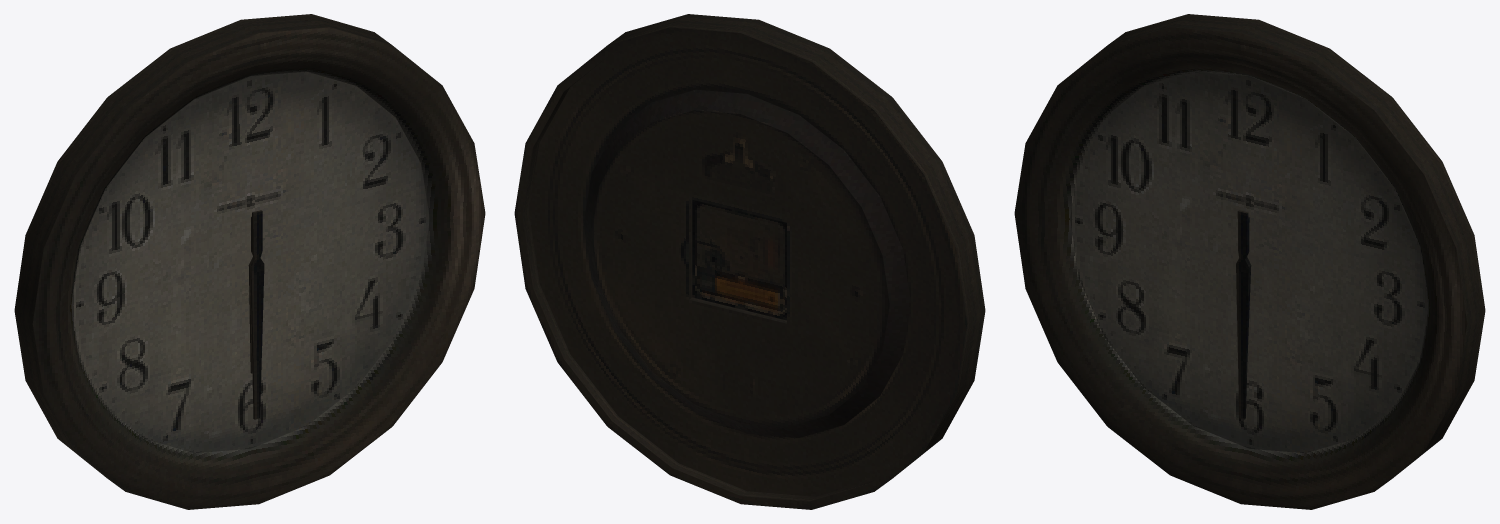
Rendered from clock_1.glb.
3 views of the same model, side by side, from view 1: azimuth 30°, elevation 25°; view 2: azimuth 150°, elevation 25°; view 3: azimuth 330°, elevation 25° (orthographic).
Visible parts, largest first — view 1: clock_1, clock_1_arm_minutes; view 2: clock_1; view 3: clock_1, clock_1_arm_minutes.
Part boxes in pixels (box(x1,y1,x2,y2)): clock_1: box(14, 14, 485, 509); clock_1_arm_minutes: box(250, 210, 264, 419); clock_1: box(514, 14, 985, 509); clock_1: box(1014, 14, 1485, 509); clock_1_arm_minutes: box(1236, 210, 1249, 419).
Bounding box in the file's own units: 0.4023 × 0.4 × 0.03.
1 material, 1 textured.
